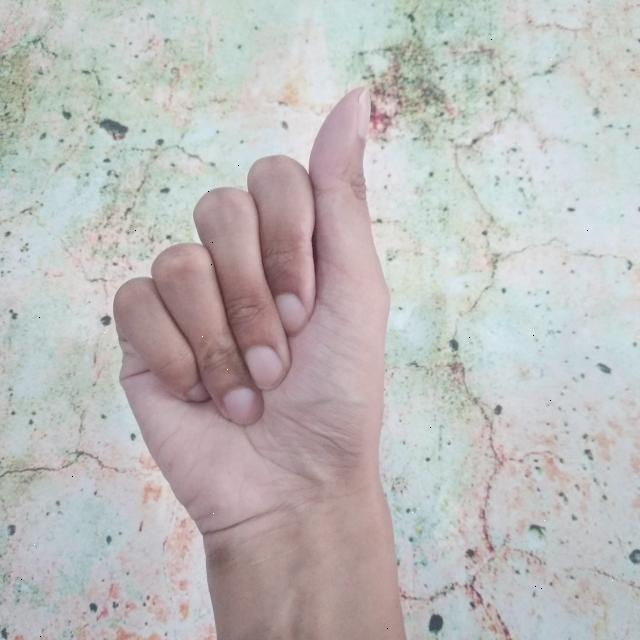A: (109, 79, 400, 640)
